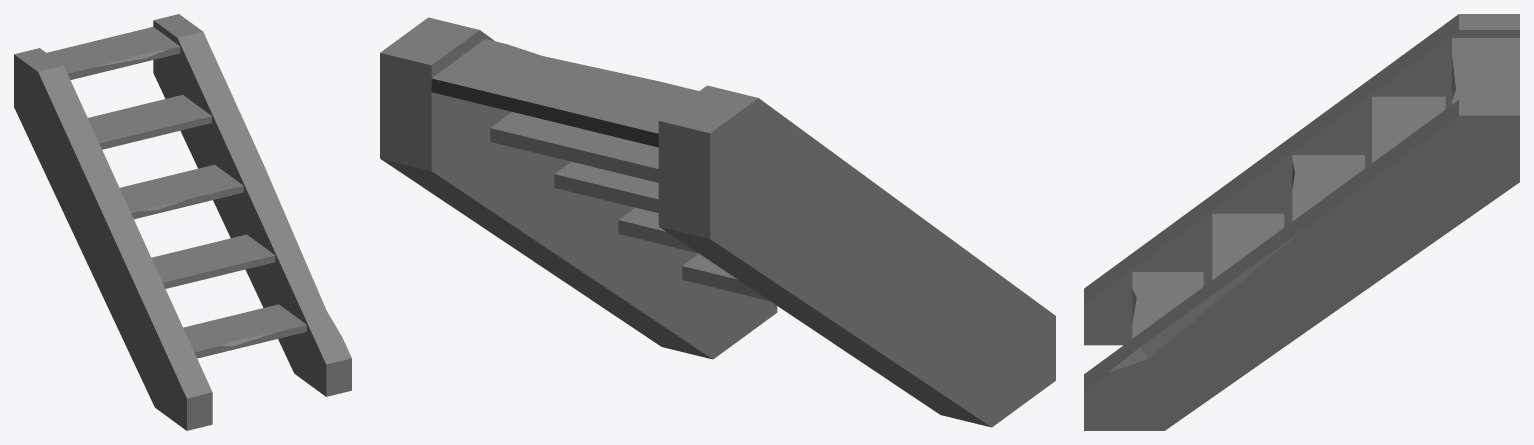
Rendered from SW_PROP_PlatformEndStair.fbx.
The picture shows the model from 3 angles, left to right: view 1: azimuth 30°, elevation 25°; view 2: azimuth 150°, elevation 25°; view 3: azimuth 270°, elevation 25°; orthographic projection. The views are drawn at different scales.
Visible parts, largest first — view 1: SW_PROP_PlatformEndStair; view 2: SW_PROP_PlatformEndStair; view 3: SW_PROP_PlatformEndStair.
Boxes of the visible parts, <box> form: SW_PROP_PlatformEndStair: <box>14,14,351,430</box>; SW_PROP_PlatformEndStair: <box>380,17,1055,427</box>; SW_PROP_PlatformEndStair: <box>1084,14,1519,430</box>.
Size of the model in its own units: 74.45 by 108 by 135.
